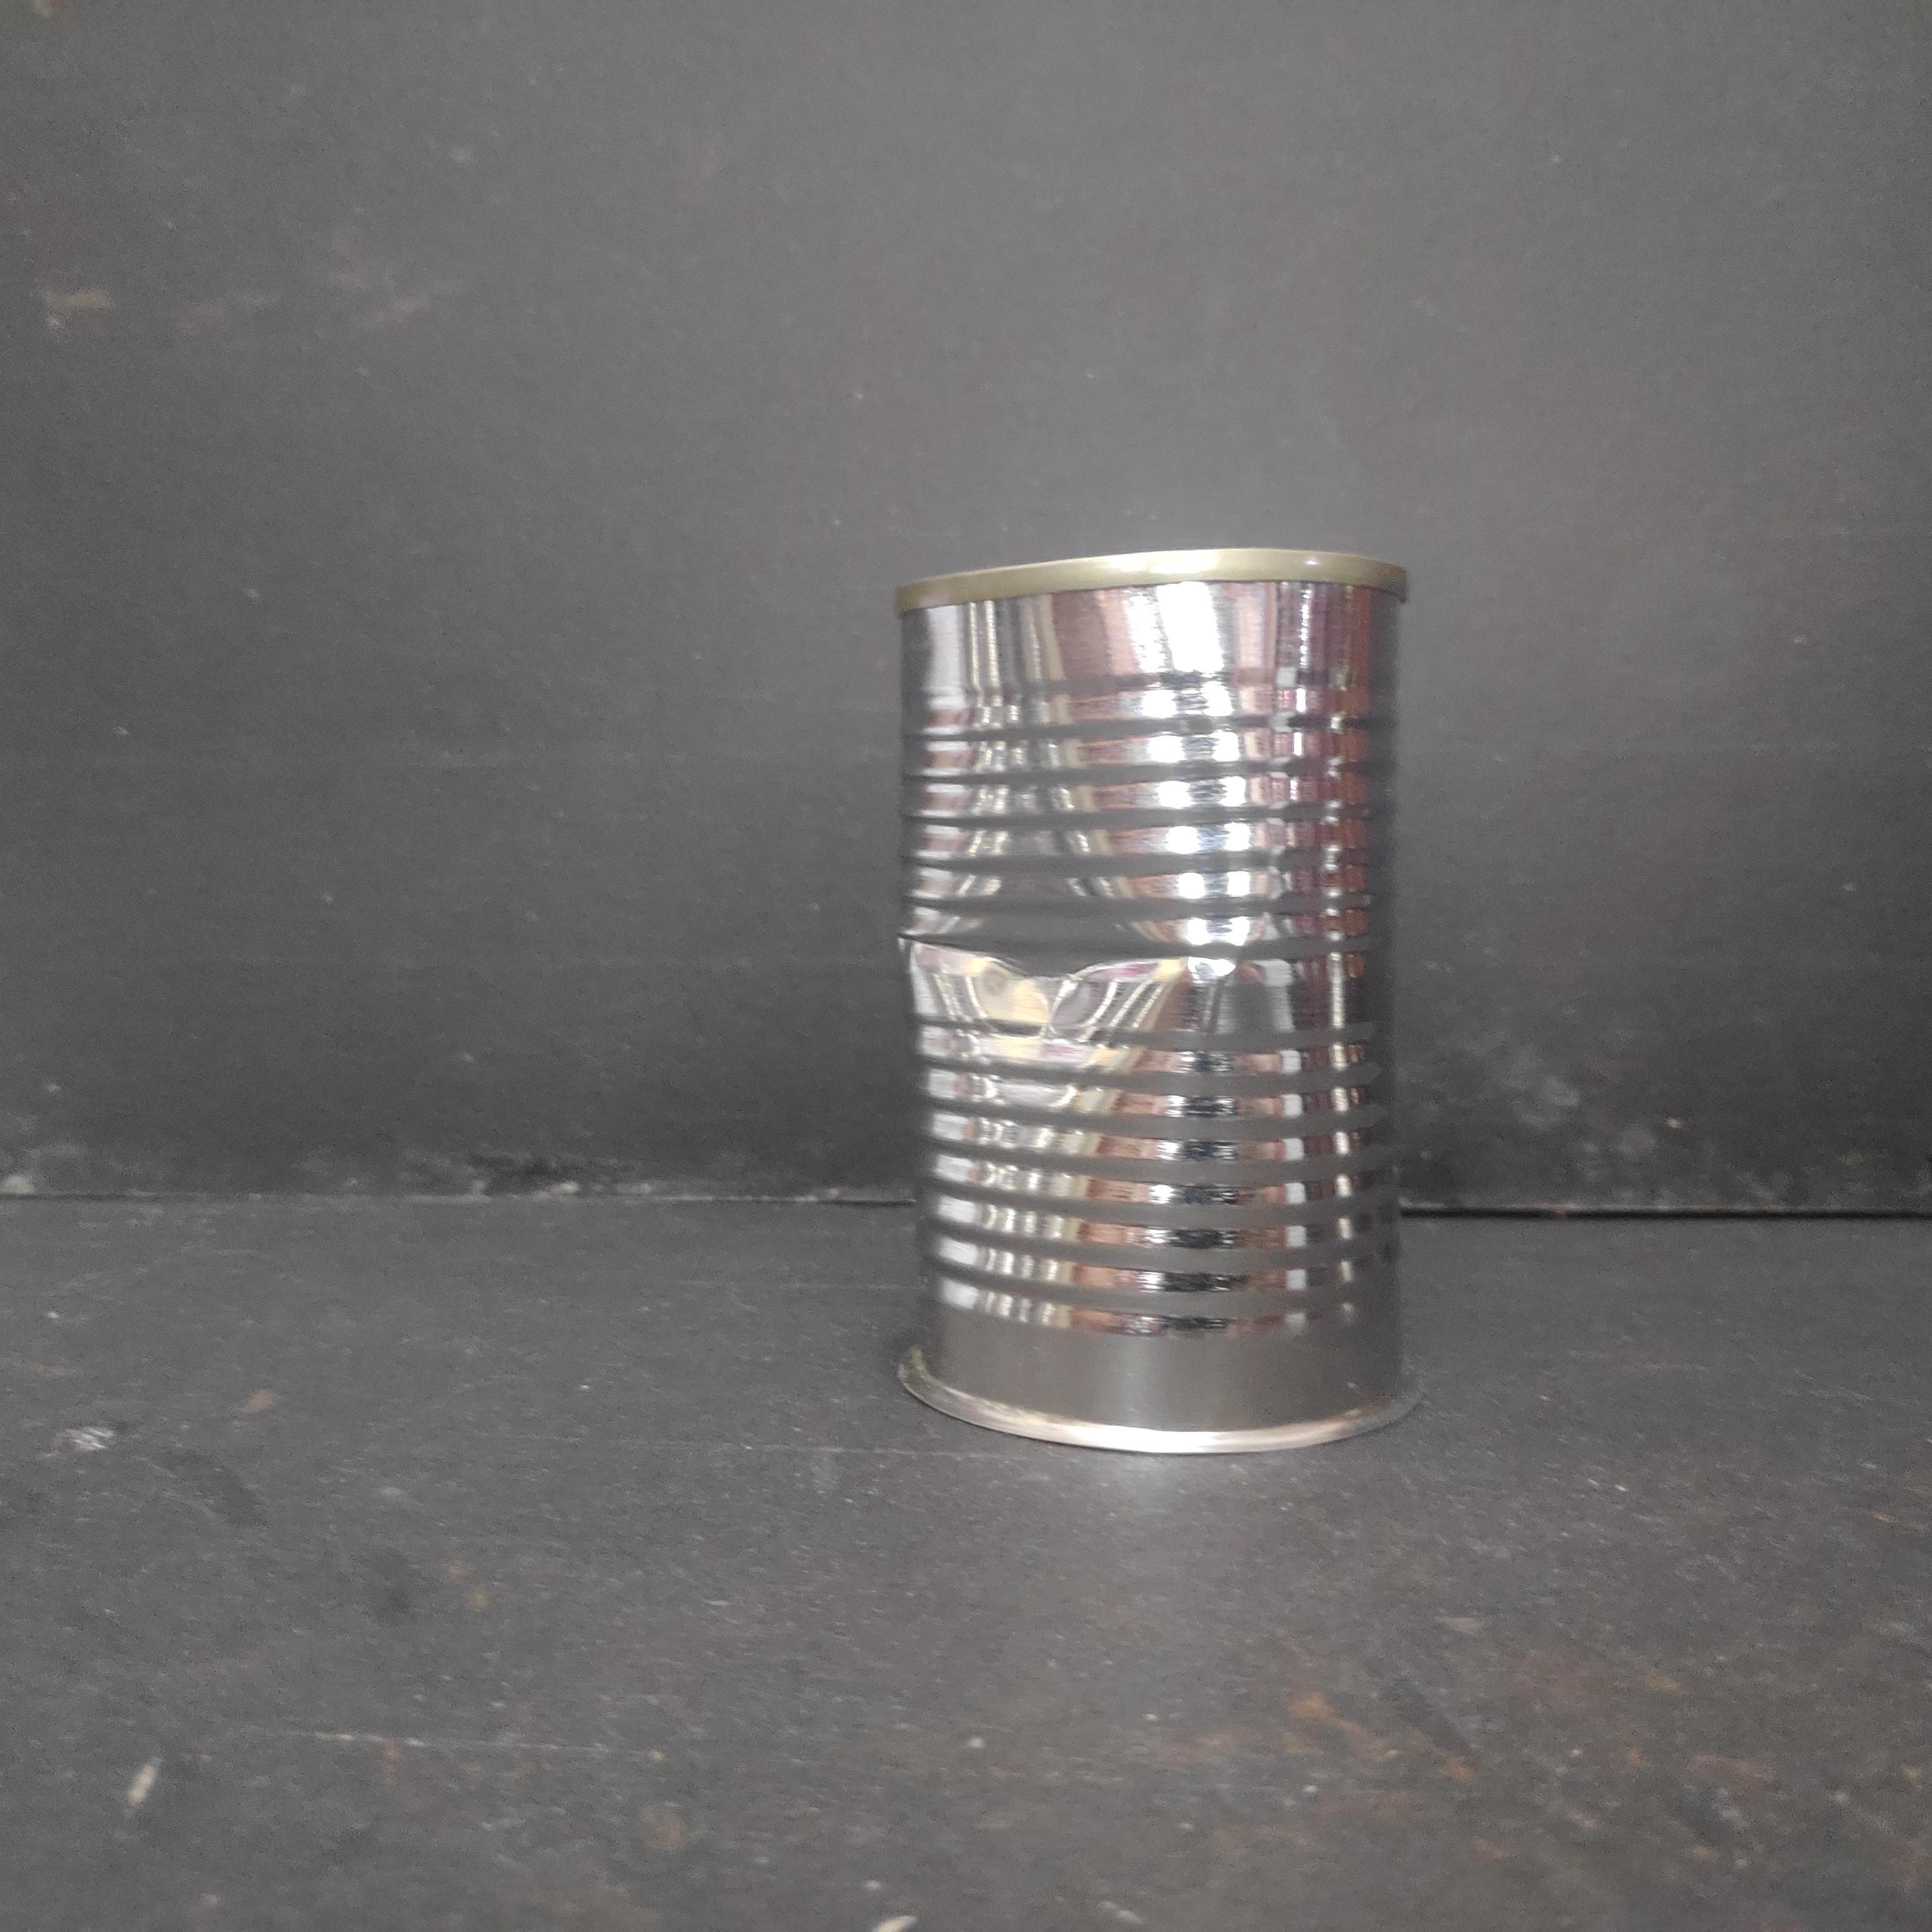Minor Defect: (883, 530, 1423, 1471)
